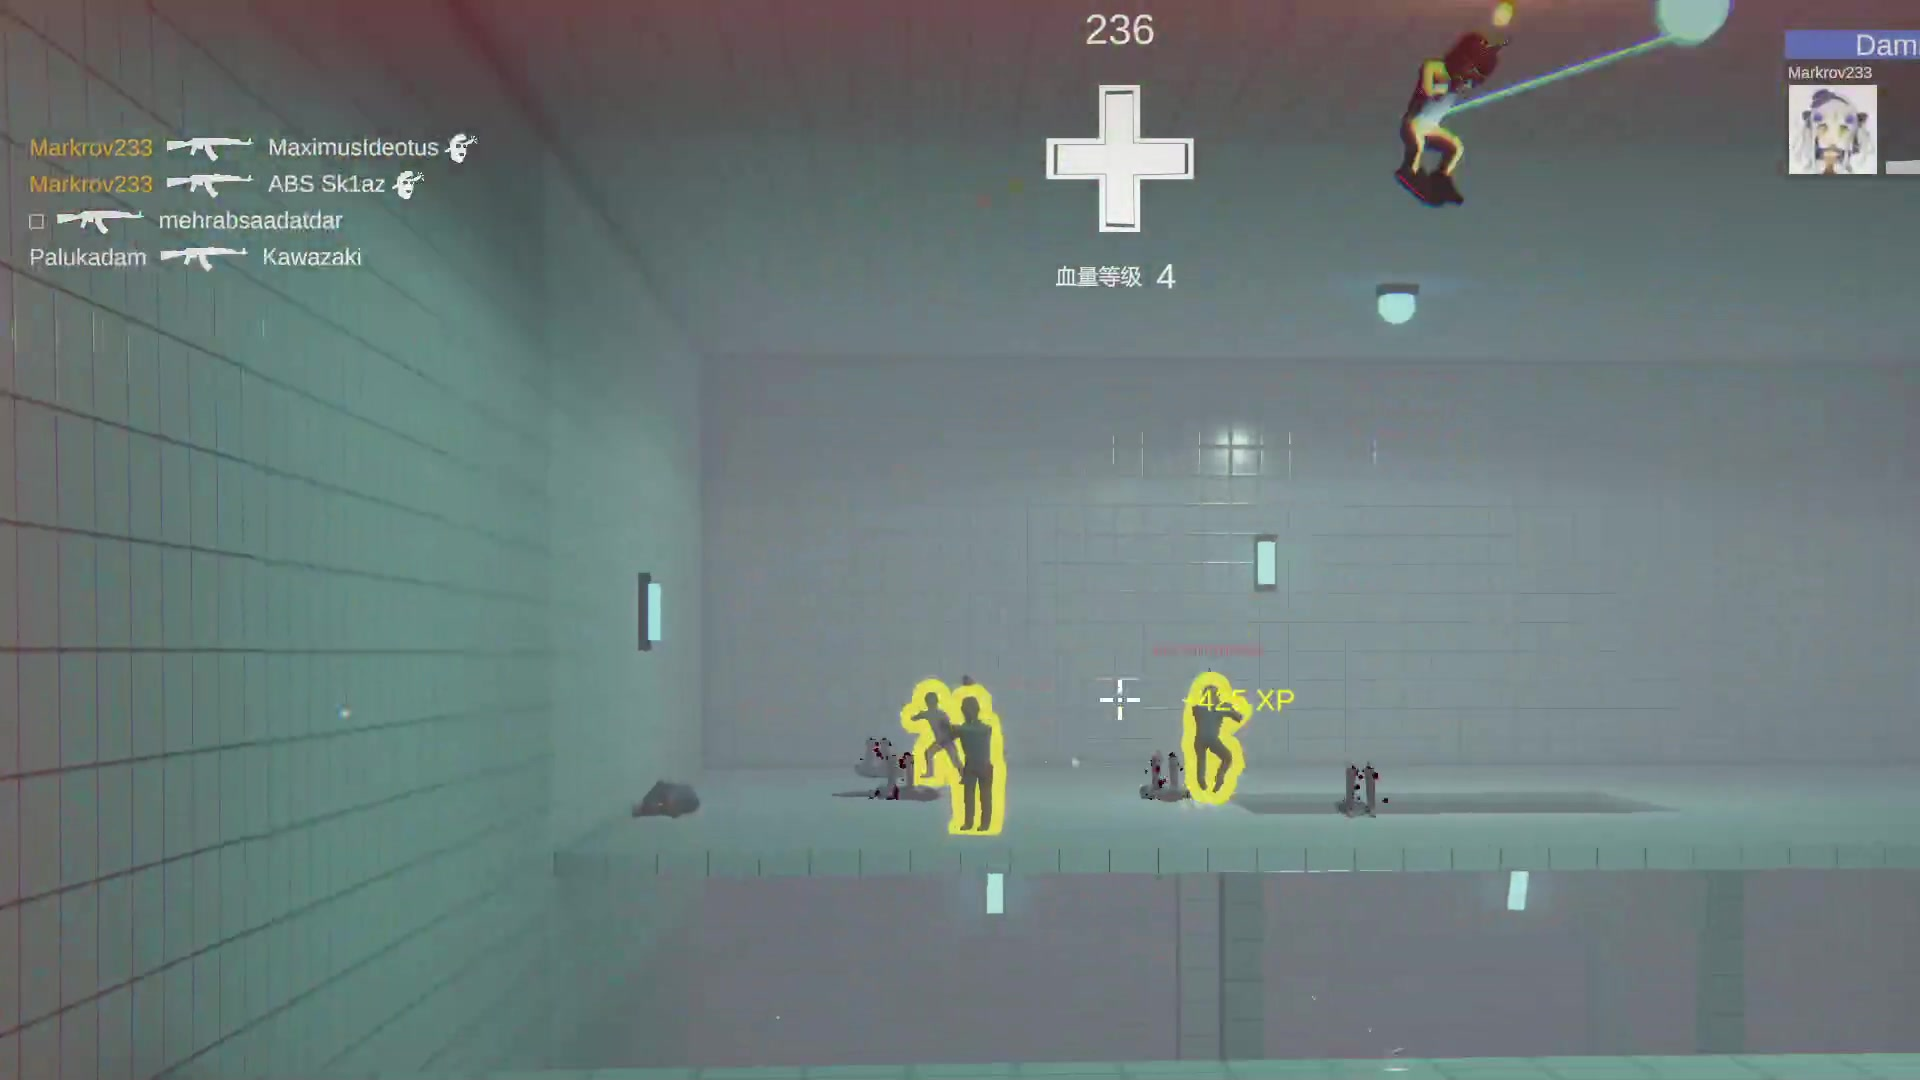human: (1403, 43, 1487, 207), (1191, 661, 1237, 803), (963, 678, 999, 833), (911, 675, 956, 786)
